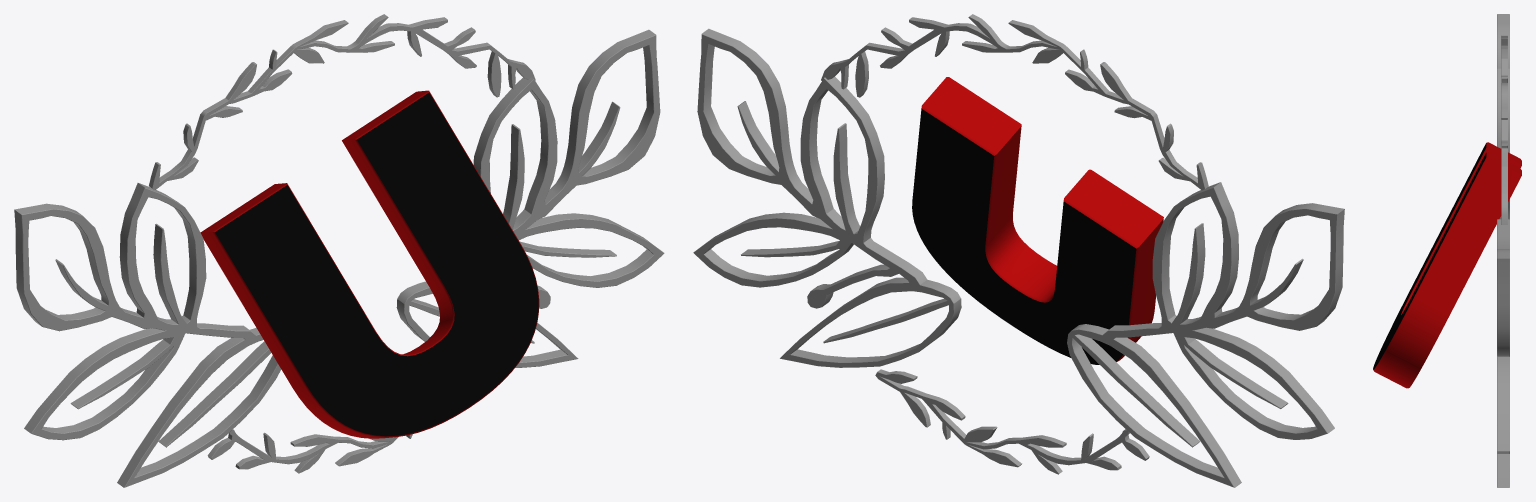
Rendered from PUP-U_2.glb.
3 renders of one model, left to right at view 1: azimuth 30°, elevation 25°; view 2: azimuth 150°, elevation 25°; view 3: azimuth 270°, elevation 25°, orthographic. The views are drawn at different scales.
Parts seen in each view (by area): view 1: Mesh1_$AssimpFbx$_ScalingPivotInverse, pPlane11, pPlane12, pPlane15; view 2: Mesh1_$AssimpFbx$_ScalingPivotInverse, pPlane11, pPlane12, pPlane15; view 3: Mesh1_$AssimpFbx$_ScalingPivotInverse, pPlane12, pPlane15, pPlane11.
Boxes of the visible parts, box(x1,y1,x2,y2) form: Mesh1_$AssimpFbx$_ScalingPivotInverse: box(200, 90, 539, 438); pPlane11: box(14, 183, 281, 487); pPlane12: box(396, 29, 664, 367); pPlane15: box(149, 14, 535, 473); Mesh1_$AssimpFbx$_ScalingPivotInverse: box(912, 77, 1163, 364); pPlane11: box(1067, 182, 1344, 487); pPlane12: box(693, 28, 961, 367); pPlane15: box(821, 14, 1208, 474); Mesh1_$AssimpFbx$_ScalingPivotInverse: box(1373, 142, 1521, 388); pPlane12: box(1497, 219, 1509, 487); pPlane15: box(1501, 35, 1507, 224); pPlane11: box(1497, 14, 1509, 219).
Size of the model in its own units: 149 by 97.85 by 34.74.
